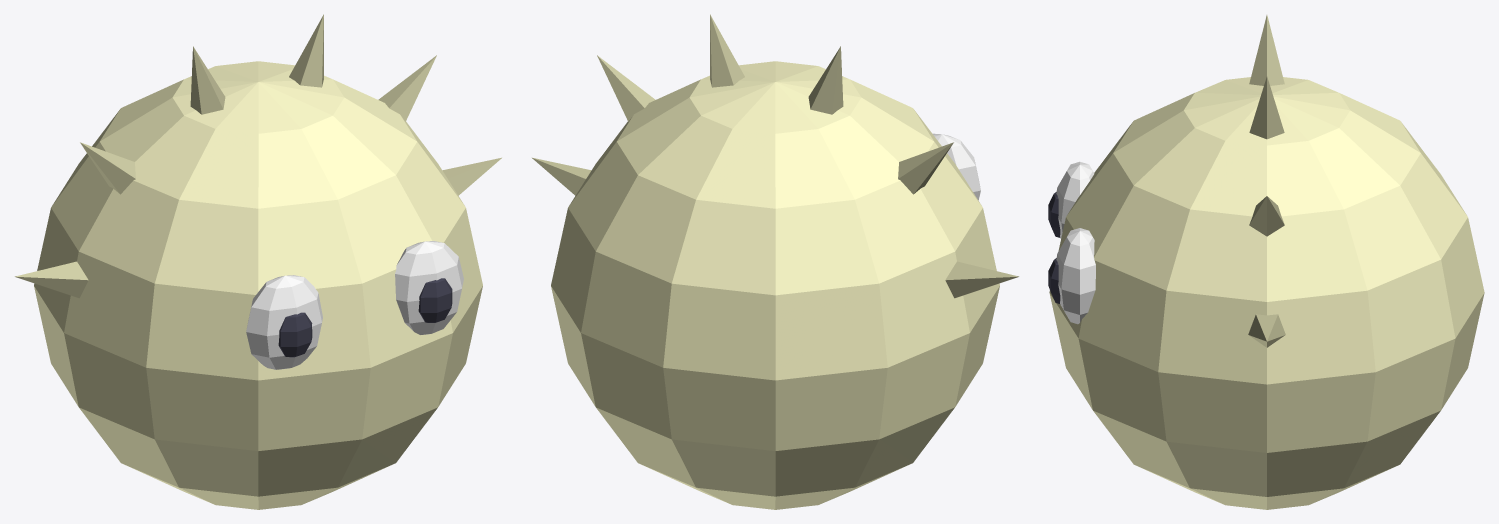
File: gmlet.glb
3 renders of one model, left to right at view 1: azimuth 30°, elevation 25°; view 2: azimuth 150°, elevation 25°; view 3: azimuth 270°, elevation 25°, orthographic. The views are drawn at different scales.
Visible parts, largest first — view 1: gmlet; view 2: gmlet; view 3: gmlet.
Part boxes in pixels (x1,y1,x2,y2): gmlet: (15, 14, 501, 509); gmlet: (532, 14, 1018, 509); gmlet: (1048, 15, 1484, 509).
Bounding box in the file's own units: 1.26 × 1.13 × 1.
